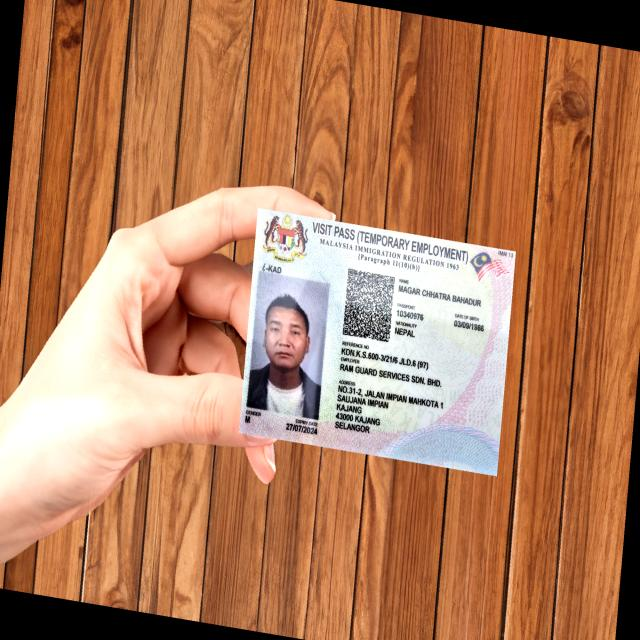ikad-temp: (238, 206, 516, 476)
